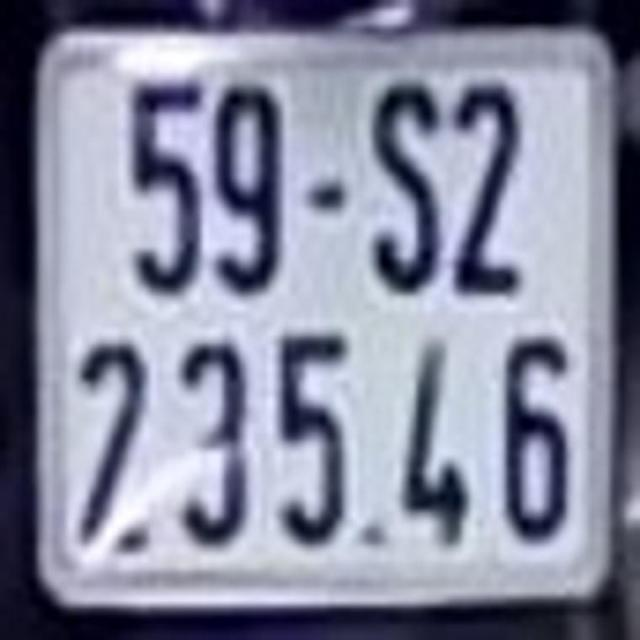2: (72, 342, 149, 558), (454, 85, 516, 294)
3: (182, 348, 245, 538)
4: (406, 343, 468, 548)
5: (134, 83, 200, 295), (280, 323, 343, 544)
6: (502, 339, 570, 536)
9: (218, 84, 276, 290)
S: (373, 82, 443, 289)
